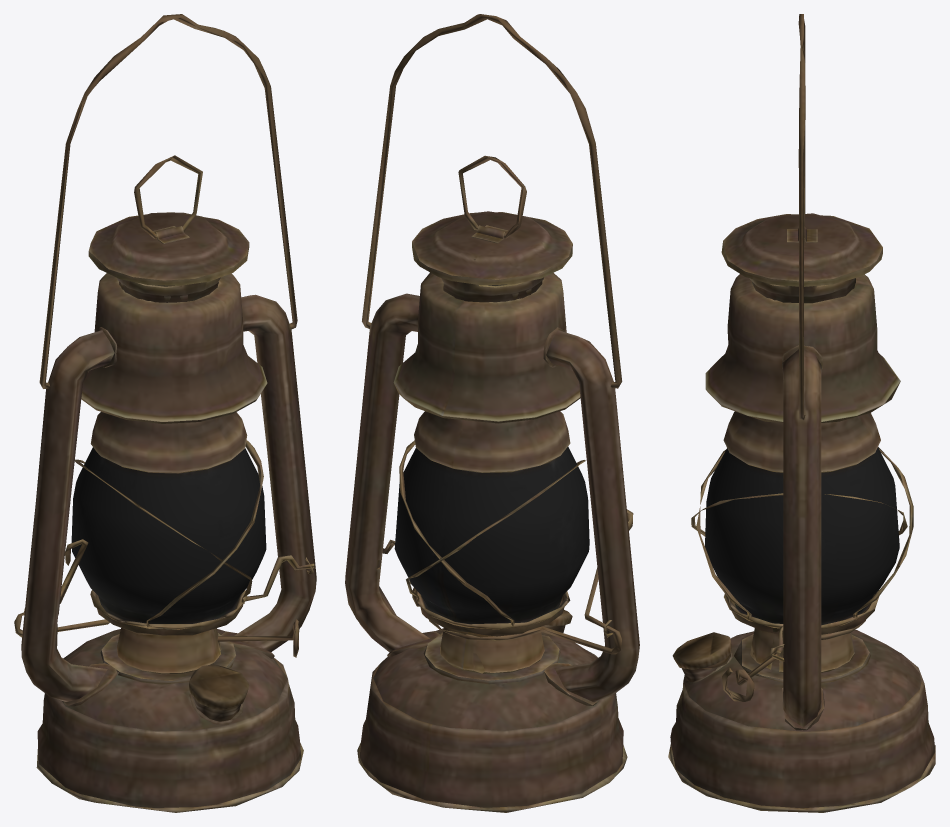
The model's file is lantern.glb.
The picture shows the model from 3 angles, left to right: view 1: azimuth 30°, elevation 25°; view 2: azimuth 150°, elevation 25°; view 3: azimuth 270°, elevation 25°; orthographic projection.
Visible parts, largest first — view 1: Lantern_01, Lantern_01_glass; view 2: Lantern_01, Lantern_01_glass; view 3: Lantern_01, Lantern_01_glass.
Boxes of the visible parts, box(x1,y1,x2,y2) form: Lantern_01: box(14, 14, 316, 812); Lantern_01_glass: box(71, 447, 266, 623); Lantern_01: box(345, 14, 639, 812); Lantern_01_glass: box(394, 446, 589, 624); Lantern_01: box(668, 14, 935, 812); Lantern_01_glass: box(705, 447, 899, 625).
Bounding box in the file's own units: 0.1219 × 0.2938 × 0.0962.
2 materials, 2 textured.
